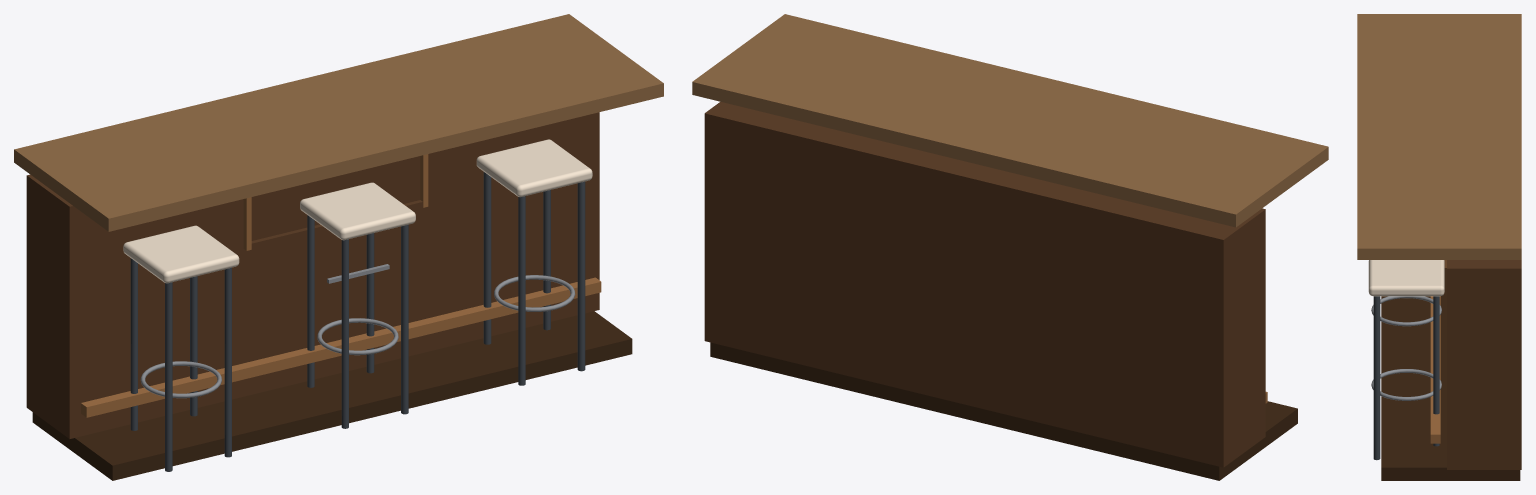
The model's file is bar.glb.
3 views of the same model, side by side, from view 1: azimuth 30°, elevation 25°; view 2: azimuth 150°, elevation 25°; view 3: azimuth 270°, elevation 25° (orthographic). The views are drawn at different scales.
Visible parts, largest first — view 1: material-1-body, material-0-top, material-2-base, material-4-leg, material-5-cushion, material-3-trim, material-6-metal; view 2: material-1-body, material-0-top, material-2-base; view 3: material-0-top, material-1-body, material-2-base, material-5-cushion, material-4-leg, material-6-metal, material-3-trim.
Boxes of the visible parts, x1,y1,x2,y2 form: material-1-body: (26,112,599,438); material-0-top: (14,14,663,231); material-2-base: (32,311,632,480); material-4-leg: (130,172,585,471); material-5-cushion: (123,139,592,283); material-3-trim: (81,154,601,417); material-6-metal: (140,264,575,398); material-1-body: (704,102,1265,467); material-0-top: (692,14,1328,227); material-2-base: (710,342,1297,480); material-0-top: (1357,14,1521,259); material-1-body: (1447,260,1521,469); material-2-base: (1381,268,1520,480); material-5-cushion: (1368,260,1444,296); material-4-leg: (1373,296,1439,460); material-6-metal: (1371,296,1441,400); material-3-trim: (1430,260,1446,443).
Size of the model in its own units: 2.2 by 1.05 by 0.65.
